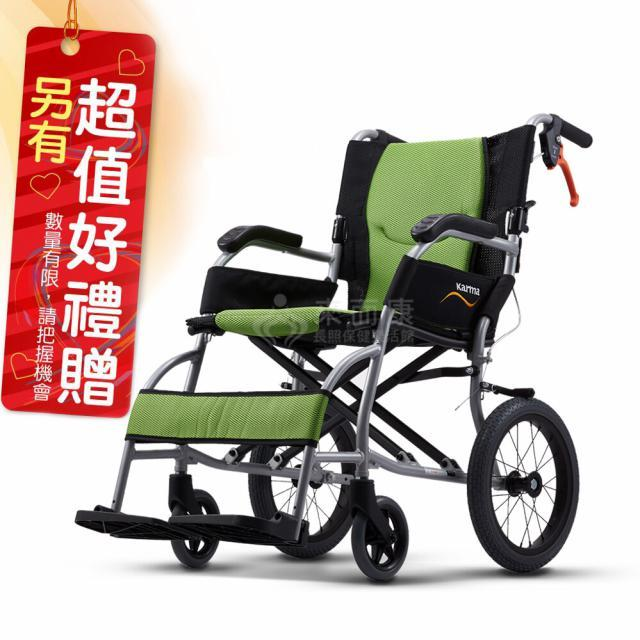wheelchair: (68, 105, 626, 610)
